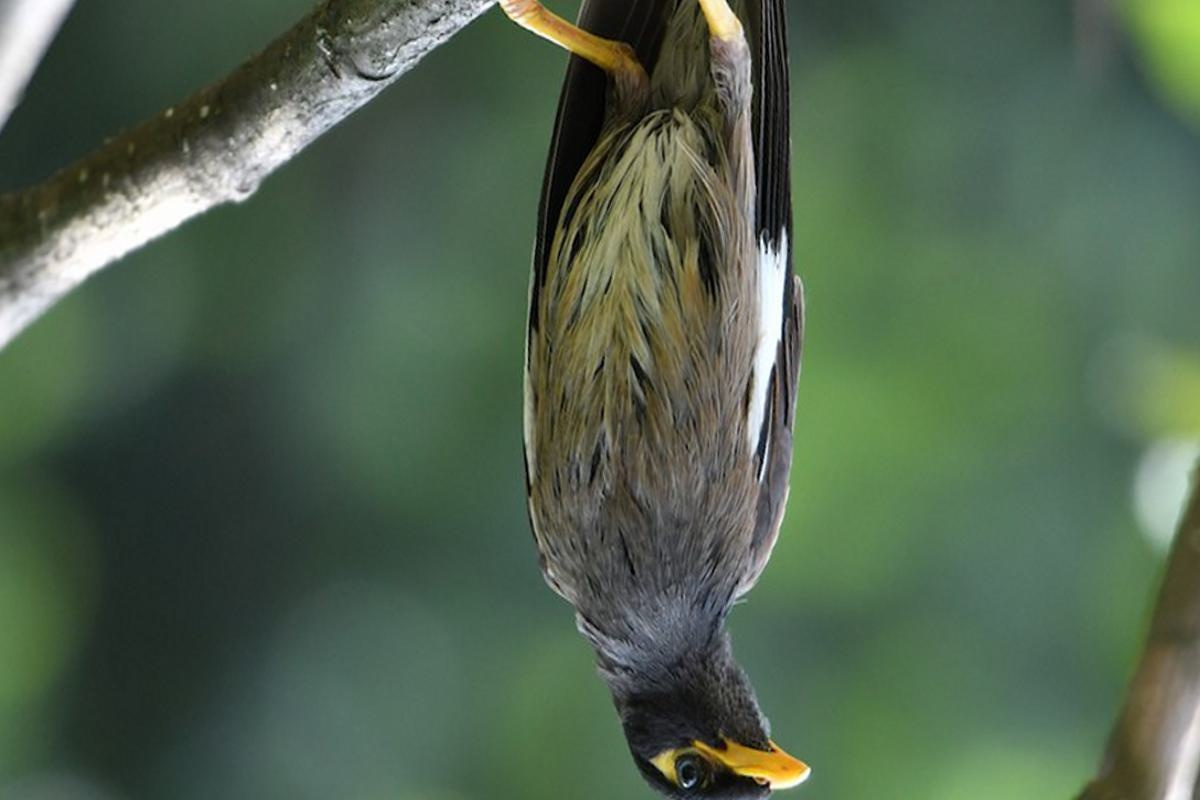myna: (479, 95, 879, 793)
